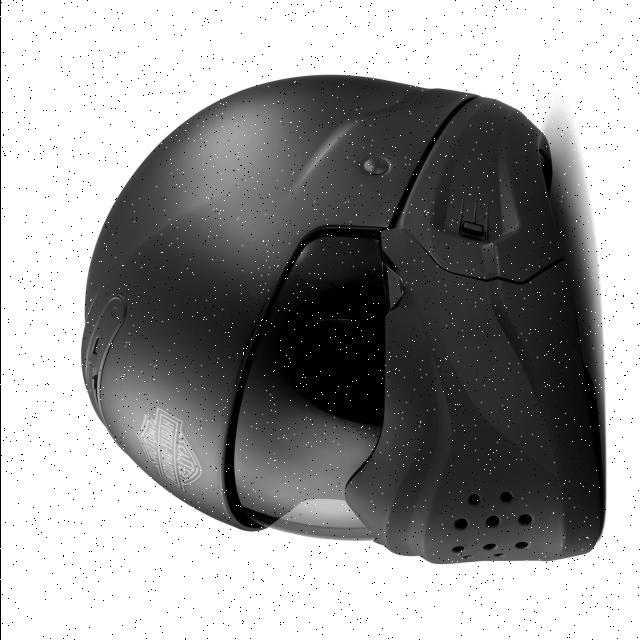Helmet: (80, 76, 601, 562)
